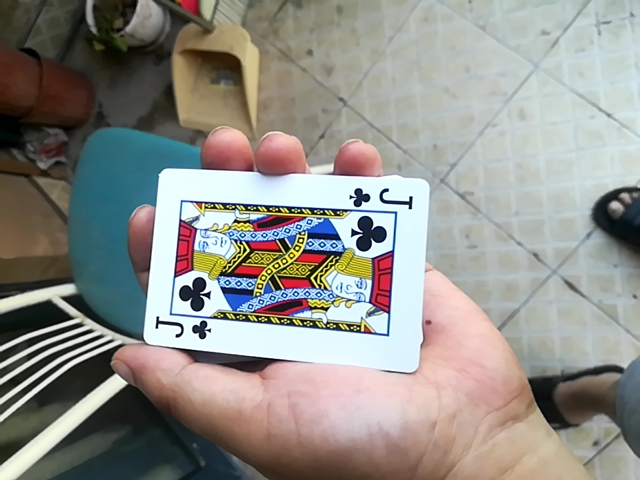mh j: (143, 157, 427, 365)
